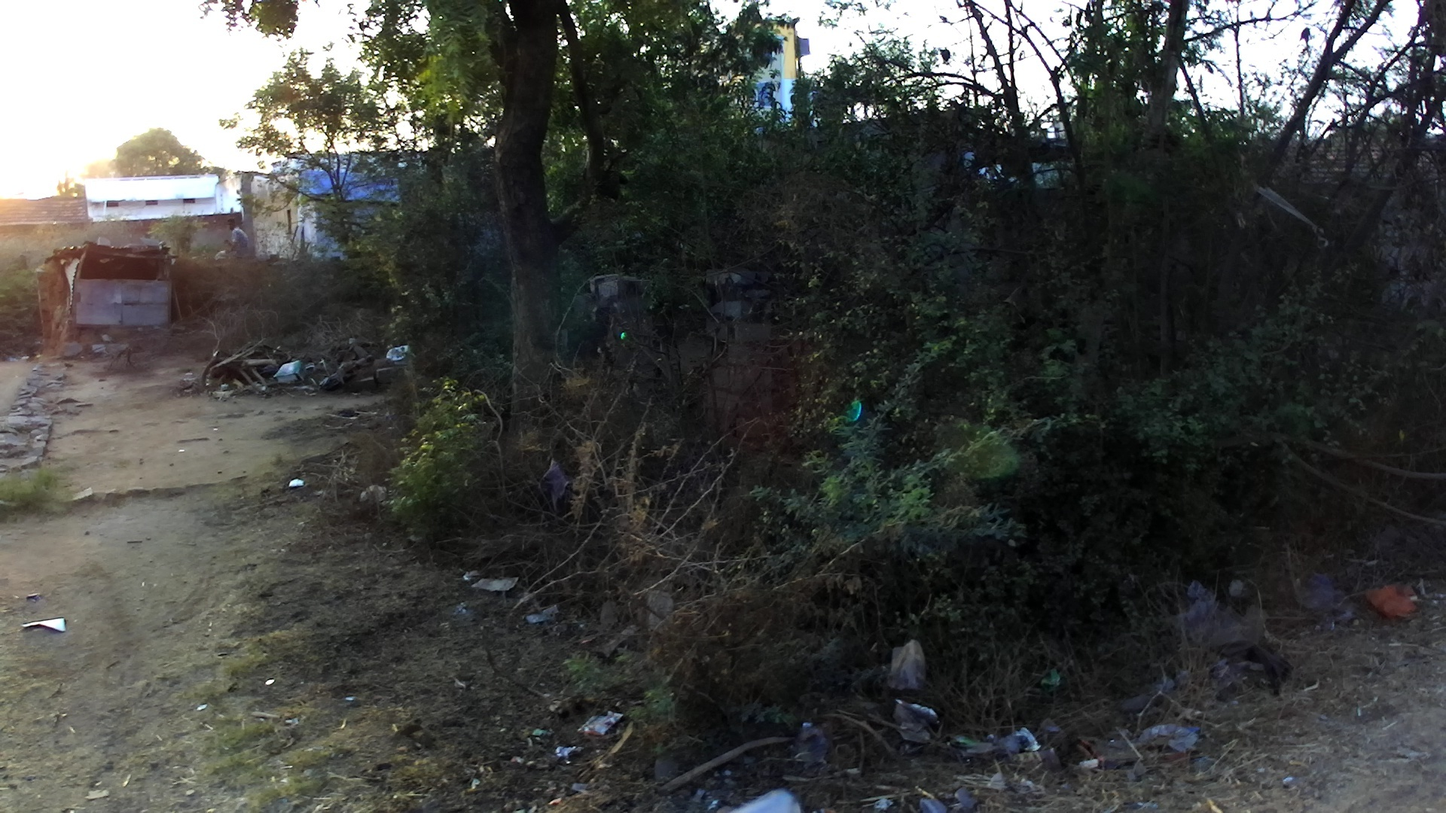person: (215, 218, 249, 260)
